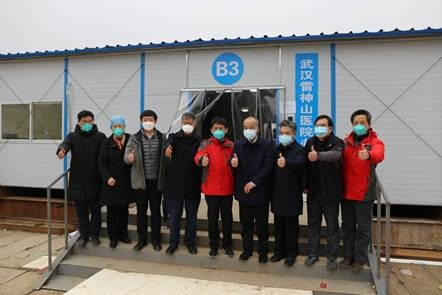correctlyWear: (277, 126, 297, 147), (312, 118, 334, 137), (351, 117, 370, 136), (209, 121, 229, 139), (179, 116, 197, 135), (242, 122, 259, 141), (109, 121, 127, 138), (76, 115, 92, 132), (140, 115, 155, 130)
